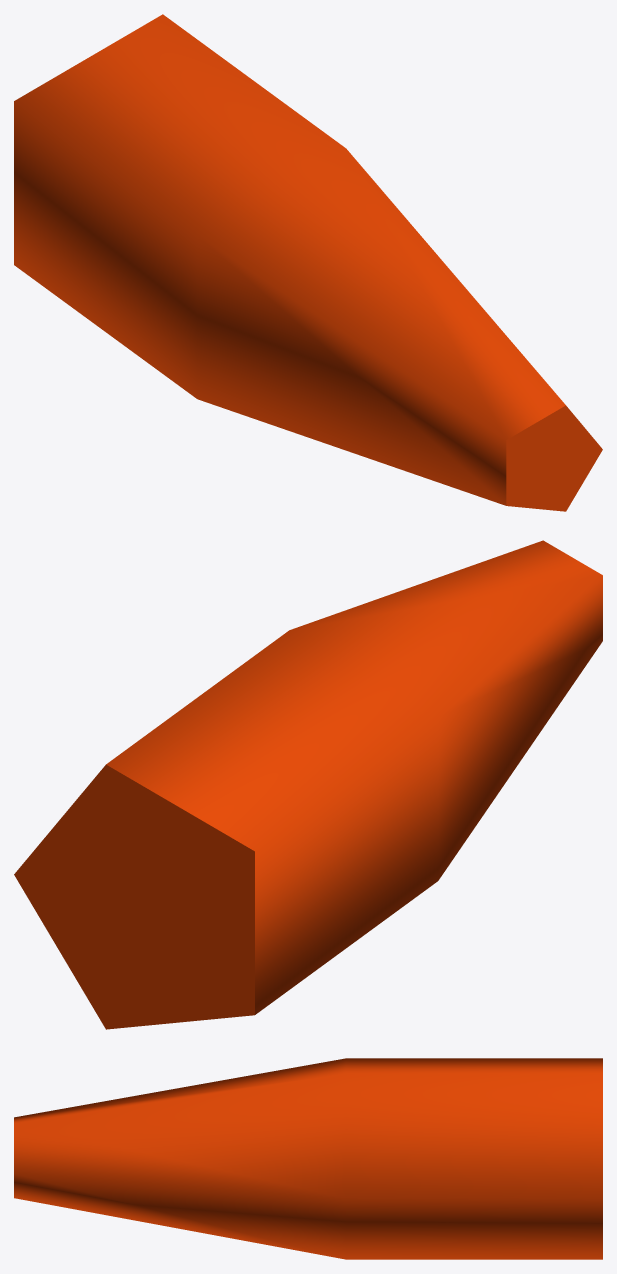
The model's file is pro_tank.fbx.
3 renders of one model, top to bottom at view 1: azimuth 30°, elevation 25°; view 2: azimuth 150°, elevation 25°; view 3: azimuth 270°, elevation 25°, orthographic. The views are drawn at different scales.
Parts seen in each view (by area): view 1: pro_tank; view 2: pro_tank; view 3: pro_tank.
Part boxes in pixels (x1=…): pro_tank: x1=14, y1=14, x2=602, y2=511; pro_tank: x1=14, y1=540, x2=602, y2=1029; pro_tank: x1=14, y1=1058, x2=602, y2=1259.
Bounding box in the file's own units: 7.35 × 7.73 × 22.22.
